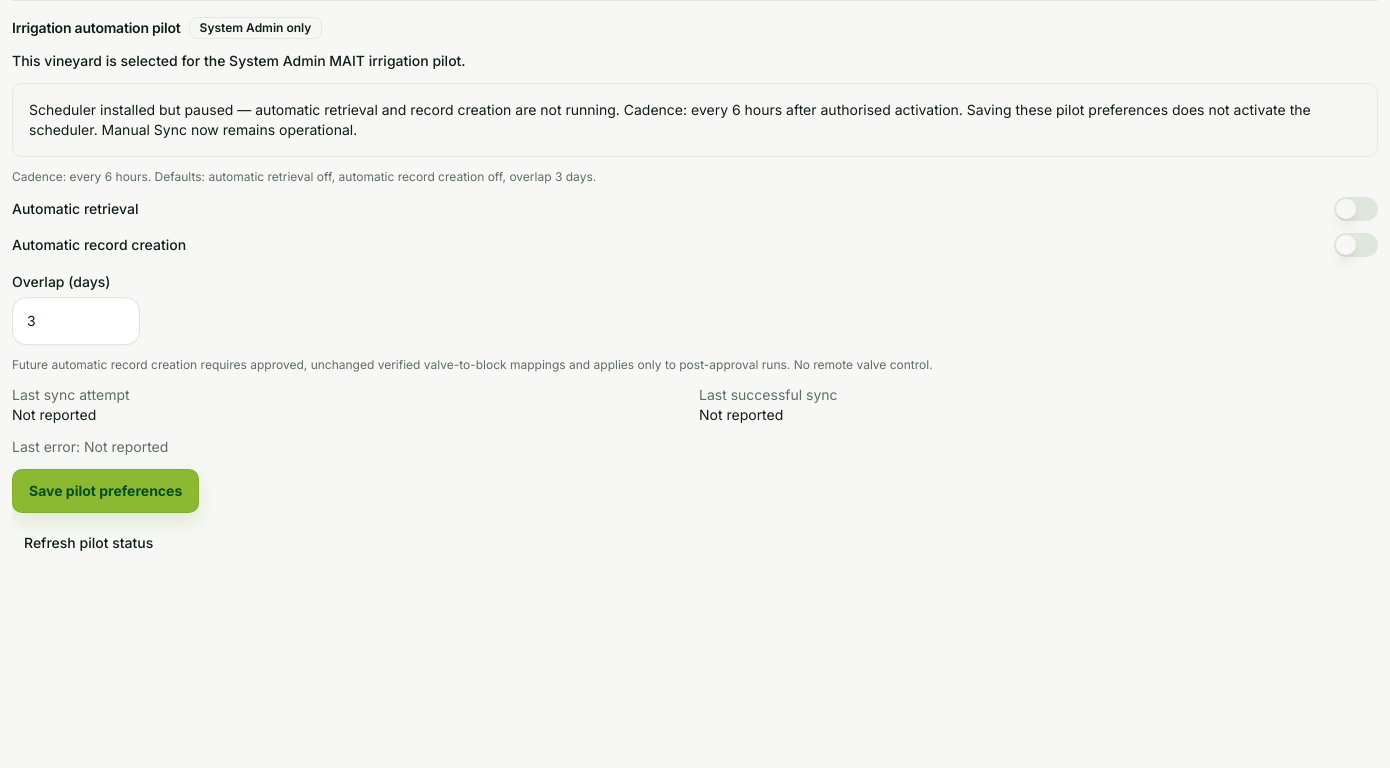
Test: MAIT irrigation automation pilot › rejects overlap 1.5 before a save request
Later steps or results of the test are not shown.
Replace the text in the number field with "1.5" at coordinates (76, 321), box [12,297,140,345]
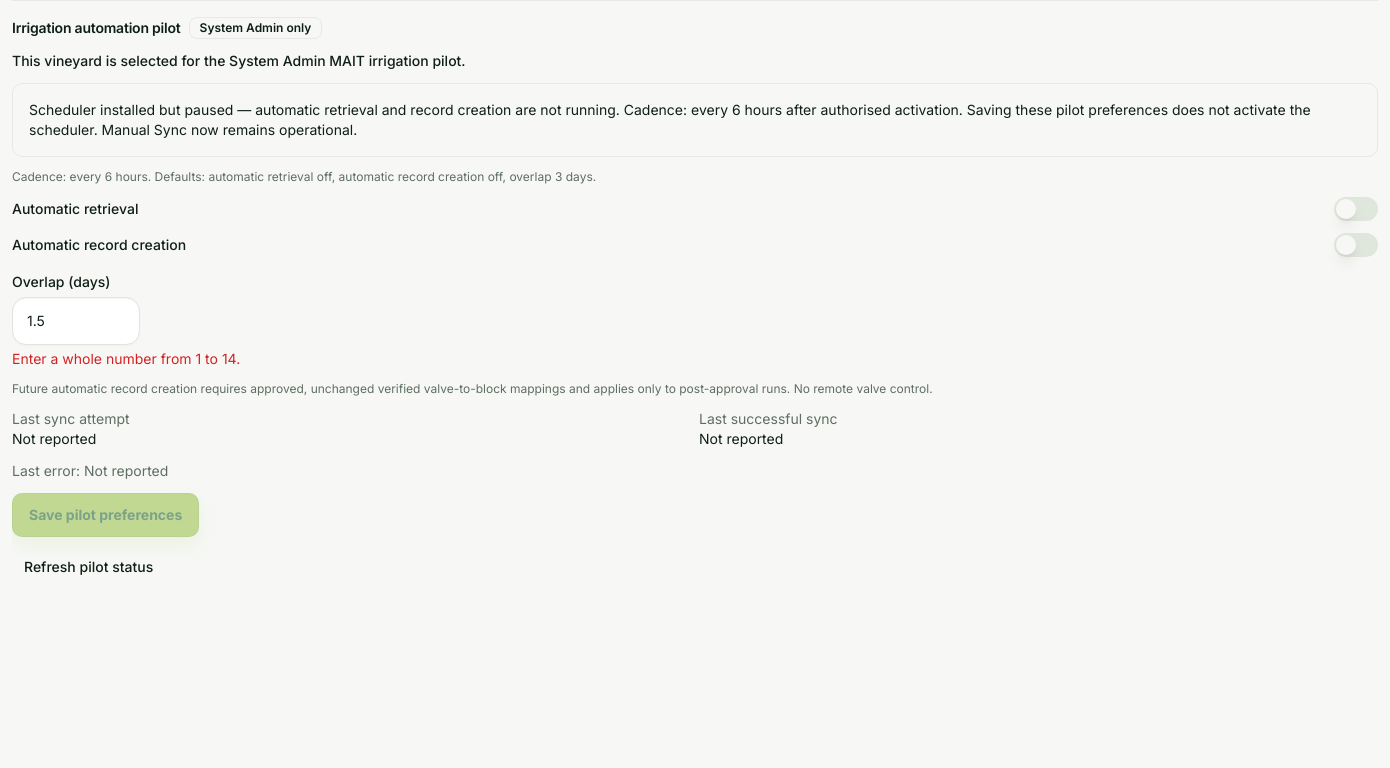
Expected: the button "Save pilot preferences" is disabled, [12,493,199,537]
